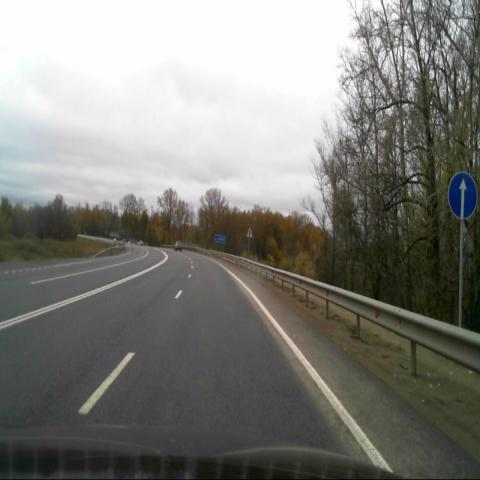4_1_1: (448, 169, 479, 222)
